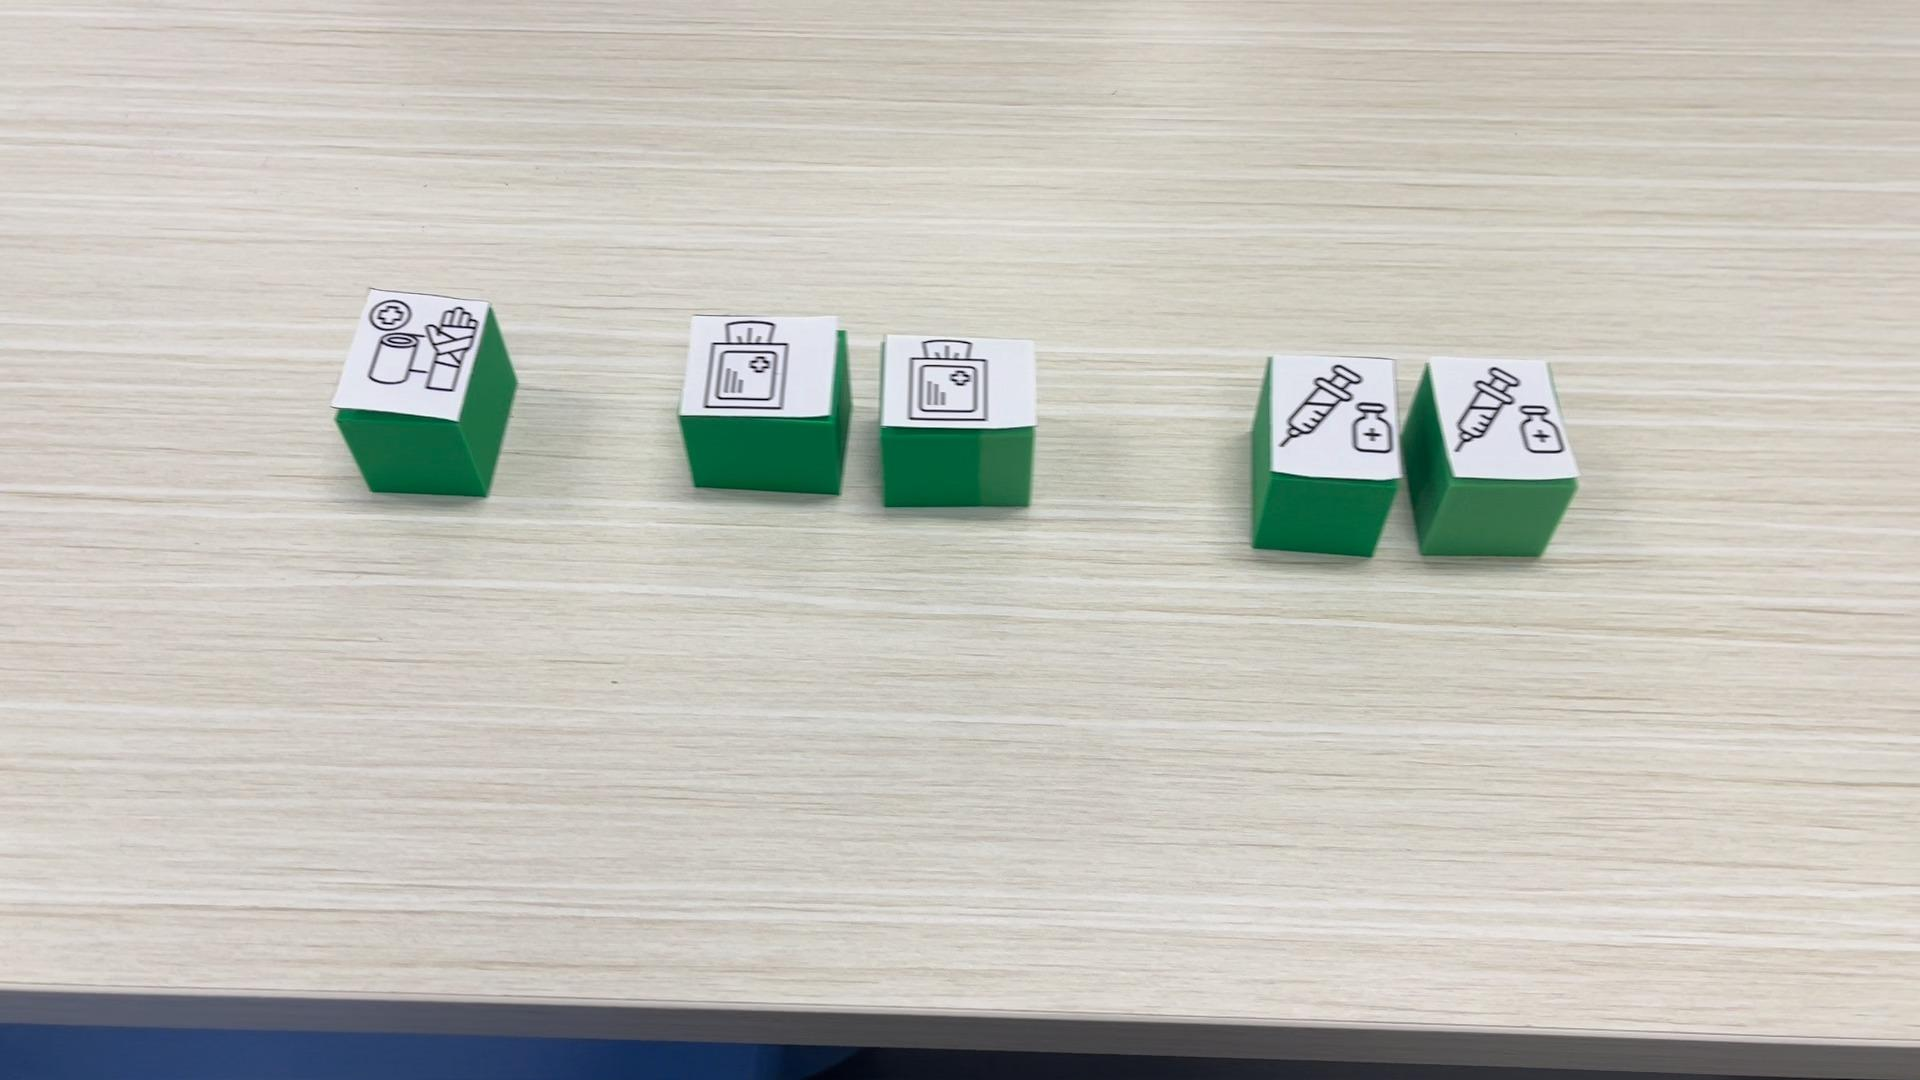Bandages: (331, 287, 516, 497)
Gauze: (676, 310, 856, 498), (878, 327, 1036, 509)
antiseptic cream: (1398, 353, 1581, 559), (1246, 355, 1402, 559)
